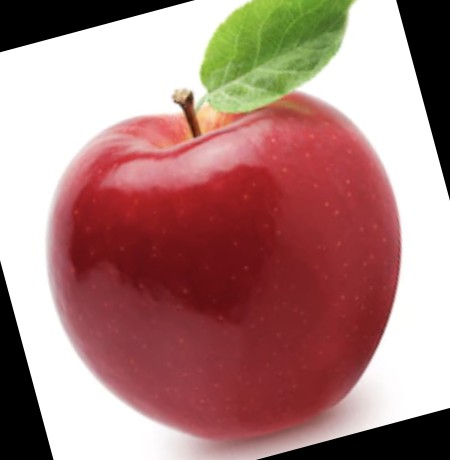fresh_apple: (43, 98, 403, 440)
